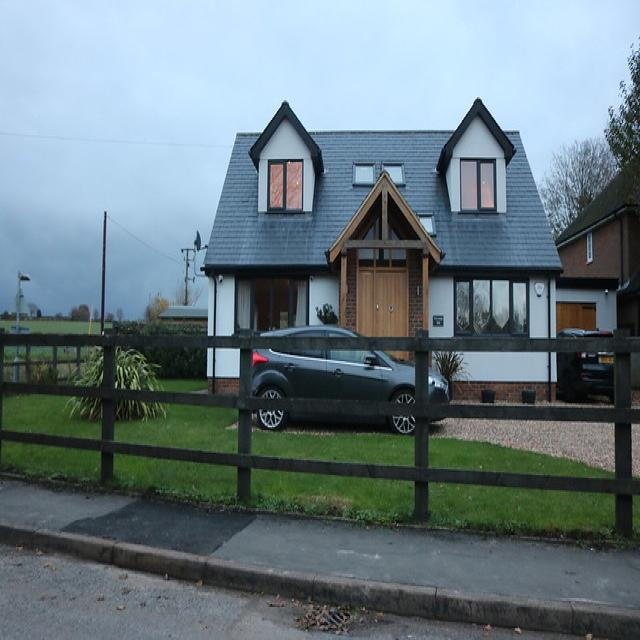building: (203, 96, 561, 421)
